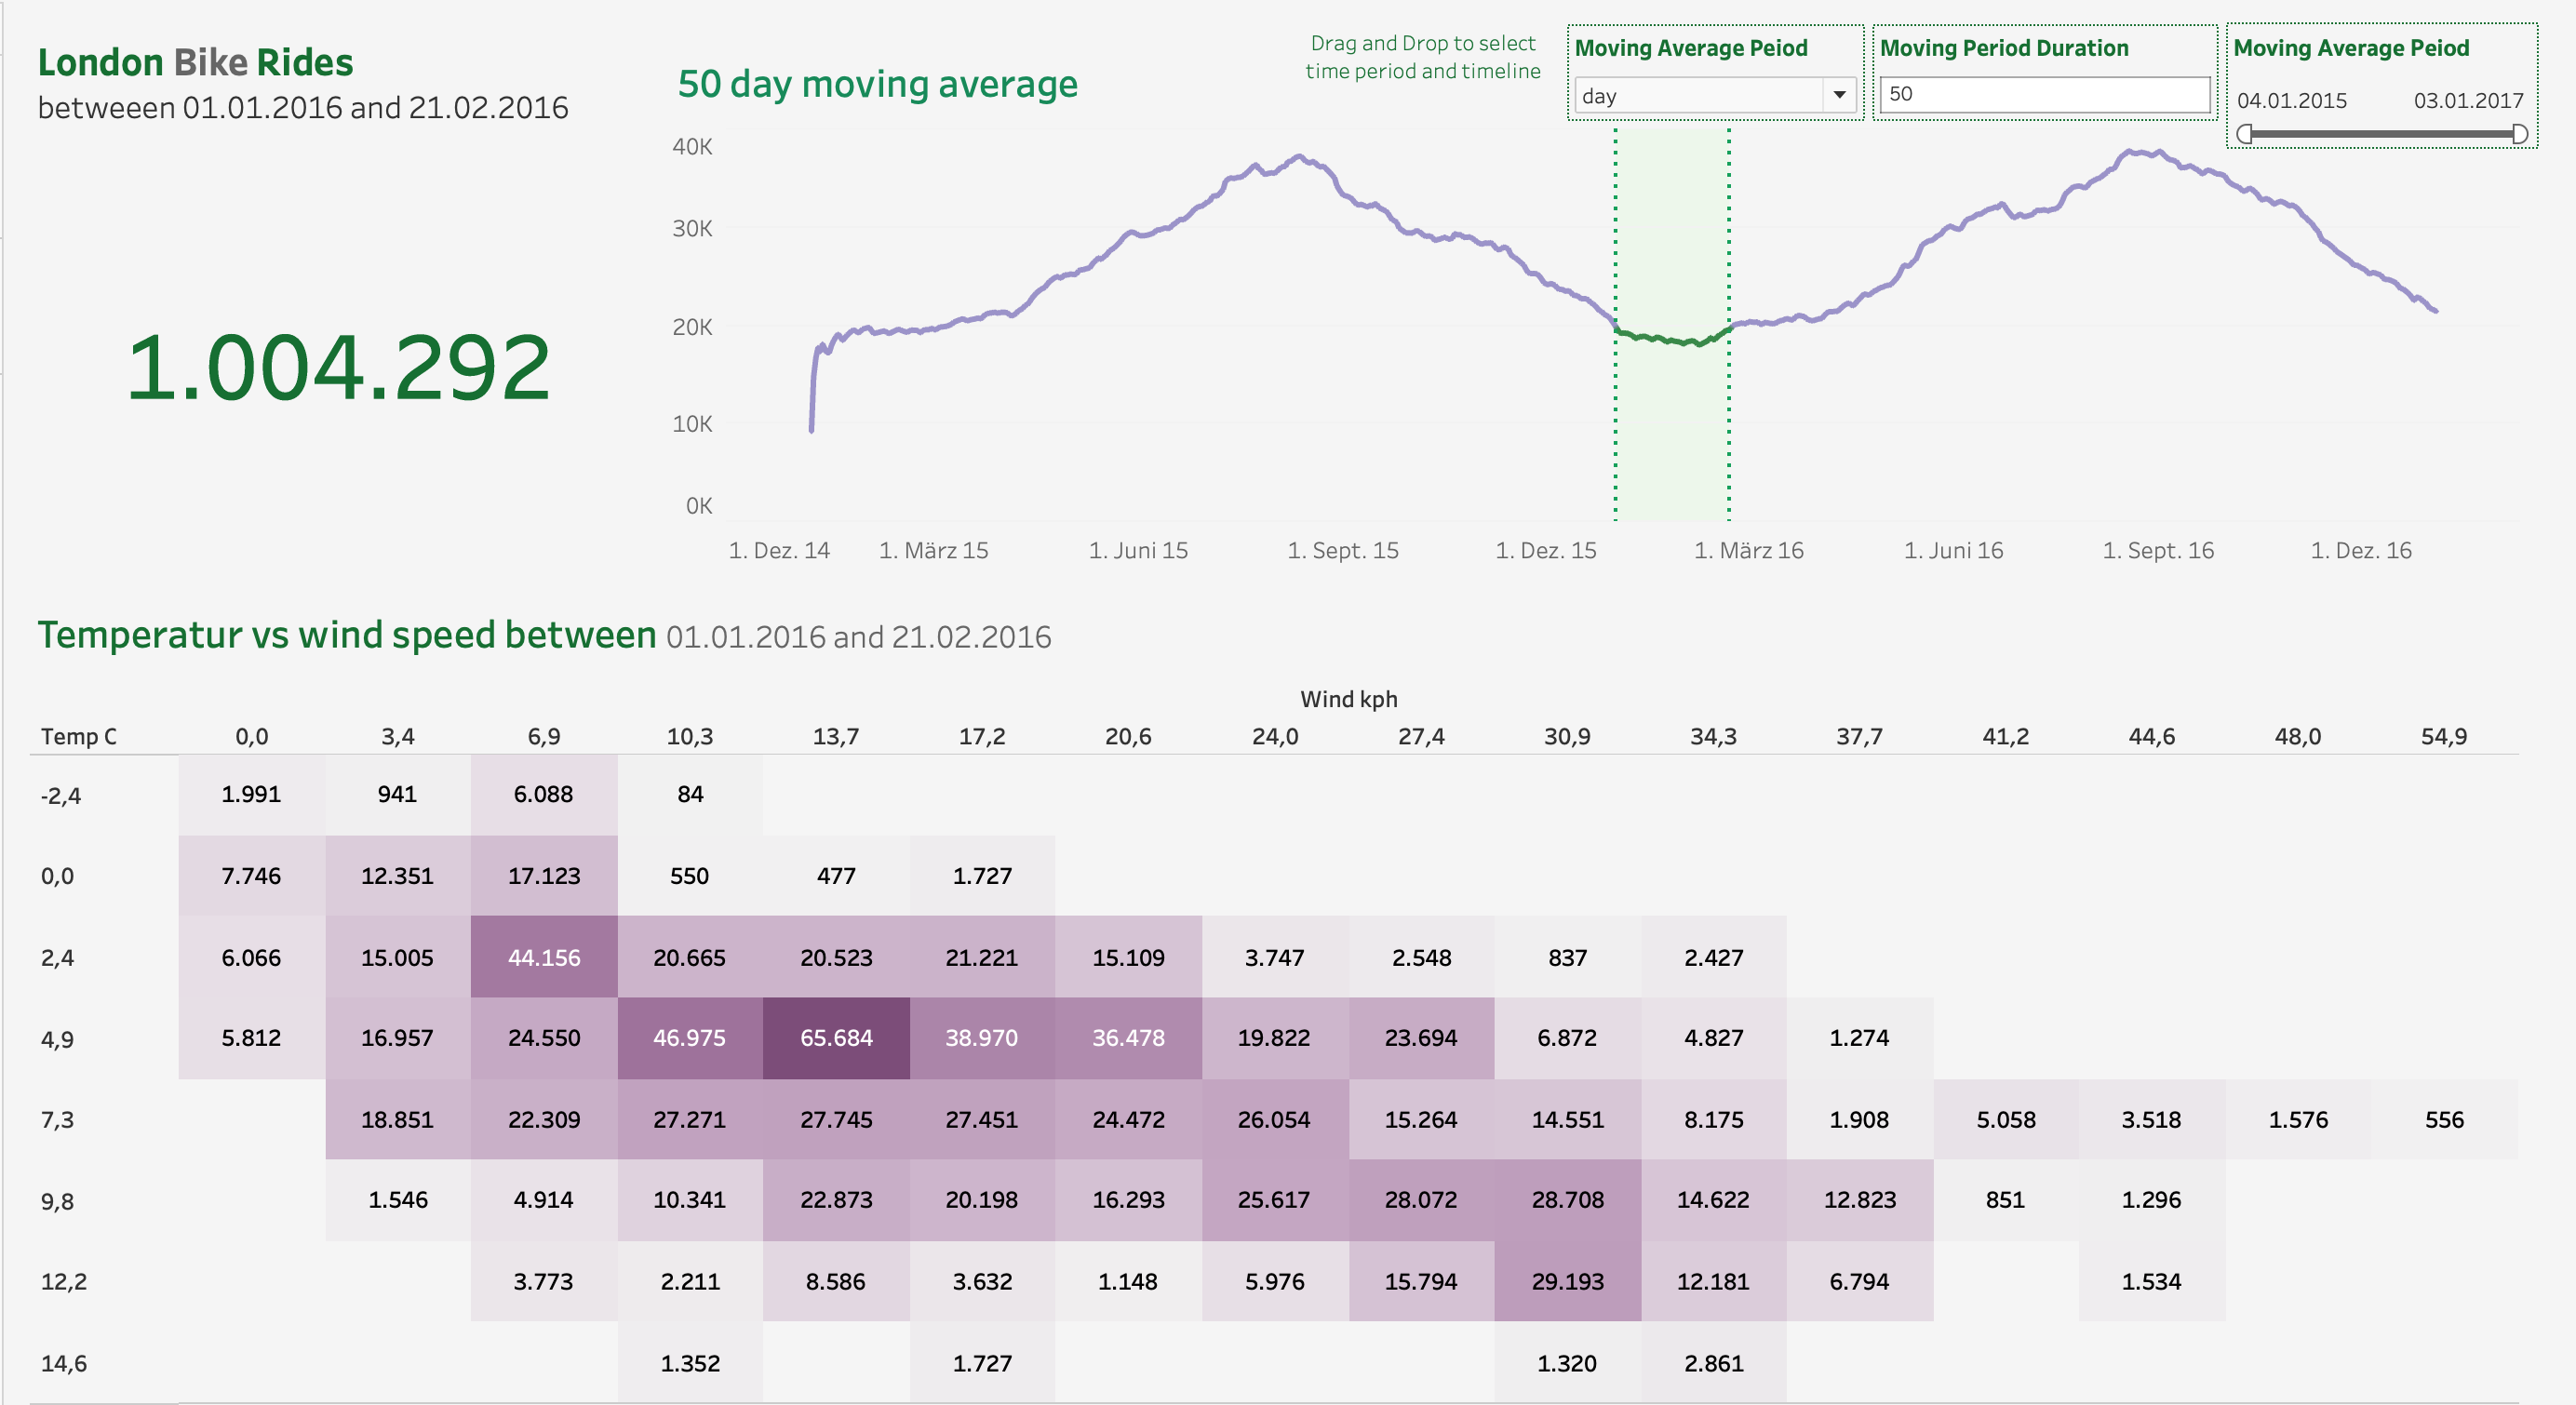

Layout of this report page (visuals, bound fields, positions):
{"tool":"tableau","page":{"name":"Dashboard 1","canvas":[1366,768],"ordinal":0},"visuals":[{"type":"worksheet","title":"Total Rides","mark":"Automatic","box":[8,8,344,307]},{"type":"worksheet","title":"MovingAverage","mark":"Automatic","rows":["Berechnung 1"],"cols":["Calculation_143622630216769537"],"box":[352,8,1006,307]},{"type":"text","box":[694,11,138,38]},{"type":"filter","title":"MovingAverage","param":"[federated.0qwu7861klv7y11dg7o0113te3z4].[none:Calculation_143622630216769537:qk","box":[1194,11,168,68]},{"type":"parameter","param":"[Parameters].[Parameter 1]","box":[840,12,160,52]},{"type":"parameter","param":"[Parameters].[Parameter 2]","box":[1004,12,186,52]},{"type":"worksheet","title":"Heatmap","mark":"Square","rows":["Temp Real C (Partition)"],"cols":["Wind Speed Kph (Partition)"],"box":[8,315,1350,445]}]}

Visuals, with their boxes on the page's 1366x768 design canvas (x1, y1, x2, y2). These are canvas units, not pixel positions in the 2576x1405 screenshot, which may show the page scaled, cropped or inside an application window:
"Total Rides" worksheet: [left=8, top=8, right=352, bottom=315]
"MovingAverage" worksheet: [left=352, top=8, right=1358, bottom=315]
text: [left=694, top=11, right=832, bottom=49]
"MovingAverage" filter: [left=1194, top=11, right=1362, bottom=79]
parameter: [left=840, top=12, right=1000, bottom=64]
parameter: [left=1004, top=12, right=1190, bottom=64]
"Heatmap" worksheet (Square marks): [left=8, top=315, right=1358, bottom=760]
